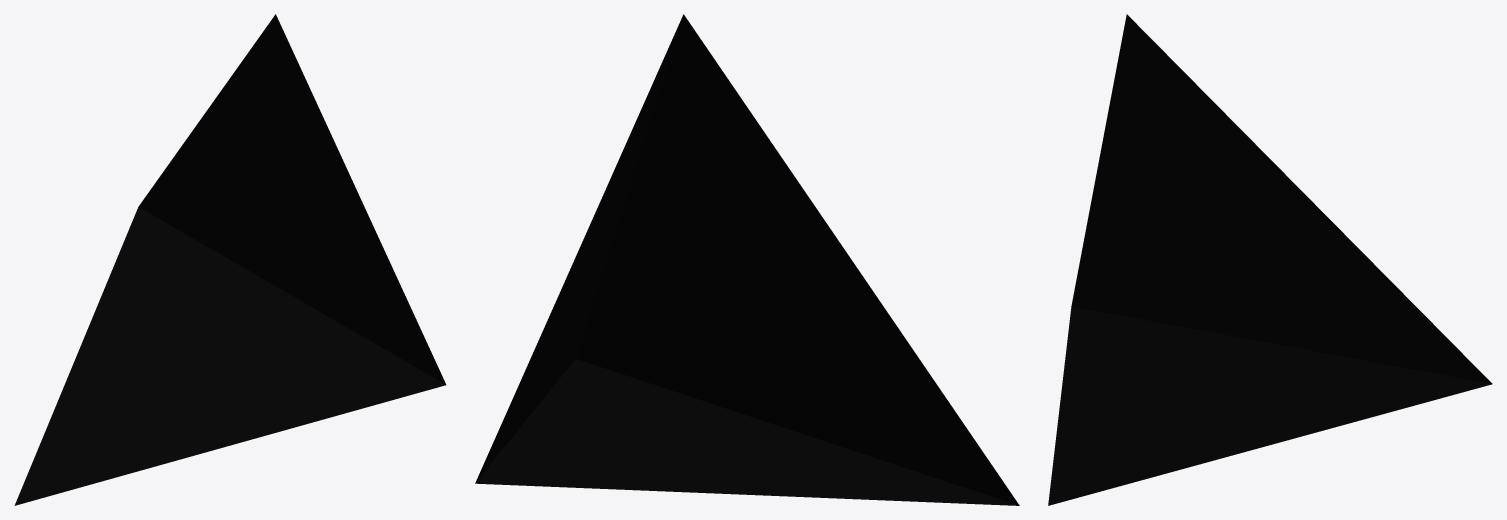
3 renders of one model, left to right at view 1: azimuth 30°, elevation 25°; view 2: azimuth 150°, elevation 25°; view 3: azimuth 270°, elevation 25°, orthographic. The views are drawn at different scales.
Size of the model in its own units: 0.0541 by 0.0495 by 0.0446.
Materials: 1 (1 with a texture image).
